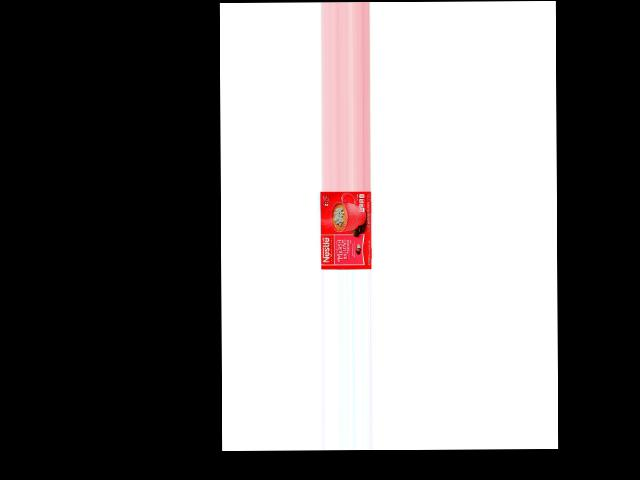chocolate: (322, 190, 374, 267)
